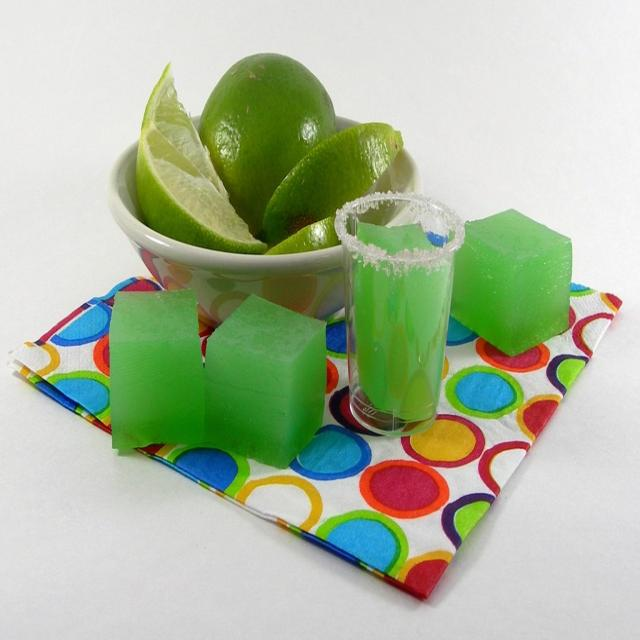Lemon: (202, 56, 342, 237), (268, 134, 402, 248), (135, 128, 269, 241), (140, 64, 232, 202), (264, 219, 342, 258)
